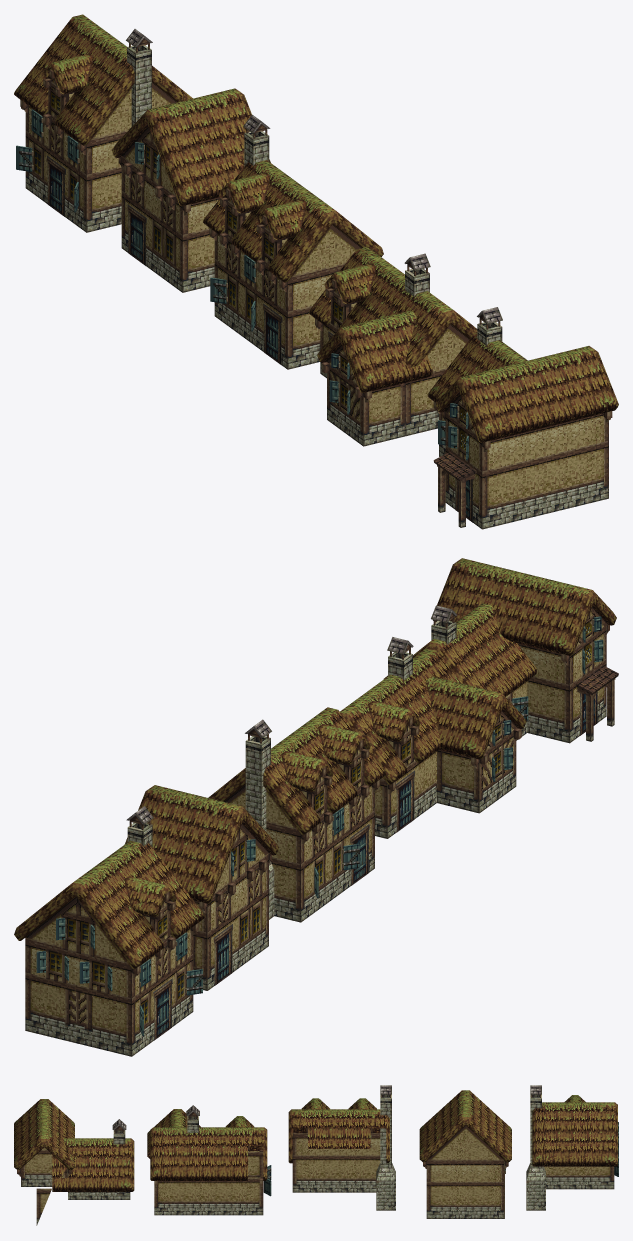
File: MbdMD_Co_T_River_S_Oldman.FBX
3 views of the same model, one above another, from view 1: azimuth 30°, elevation 25°; view 2: azimuth 150°, elevation 25°; view 3: azimuth 270°, elevation 25° (orthographic). The views are drawn at different scales.
Visible parts, largest first — view 1: MbdMD_Co_T_River_S_Pub, MbdMD_Co_T_River_S_Oldman, MbdMD_Co_T_River_S_Zeff, MbdMD_Co_T_River_S_GeneralShop, MbdMD_Co_T_River_S_Inn; view 2: MbdMD_Co_T_River_S_GeneralShop, MbdMD_Co_T_River_S_Pub, MbdMD_Co_T_River_S_Oldman, MbdMD_Co_T_River_S_Zeff, MbdMD_Co_T_River_S_Inn; view 3: MbdMD_Co_T_River_S_Zeff, MbdMD_Co_T_River_S_Oldman, MbdMD_Co_T_River_S_Inn, MbdMD_Co_T_River_S_Pub, MbdMD_Co_T_River_S_GeneralShop.
Part boxes in pixels (box(x1,y1,x2,y2)): MbdMD_Co_T_River_S_Pub: box(427, 307, 618, 529); MbdMD_Co_T_River_S_Oldman: box(203, 114, 383, 369); MbdMD_Co_T_River_S_Zeff: box(309, 247, 477, 446); MbdMD_Co_T_River_S_GeneralShop: box(14, 14, 192, 232); MbdMD_Co_T_River_S_Inn: box(112, 88, 270, 292); MbdMD_Co_T_River_S_GeneralShop: box(14, 806, 204, 1056); MbdMD_Co_T_River_S_Pub: box(384, 558, 618, 743); MbdMD_Co_T_River_S_Oldman: box(208, 707, 385, 922); MbdMD_Co_T_River_S_Zeff: box(340, 637, 526, 838); MbdMD_Co_T_River_S_Inn: box(124, 785, 279, 990); MbdMD_Co_T_River_S_Zeff: box(147, 1105, 271, 1215); MbdMD_Co_T_River_S_Oldman: box(288, 1085, 395, 1210); MbdMD_Co_T_River_S_Inn: box(419, 1090, 511, 1218); MbdMD_Co_T_River_S_Pub: box(14, 1099, 134, 1225); MbdMD_Co_T_River_S_GeneralShop: box(526, 1085, 618, 1210).
Bounding box in the file's own units: 744 × 850 × 3876.
